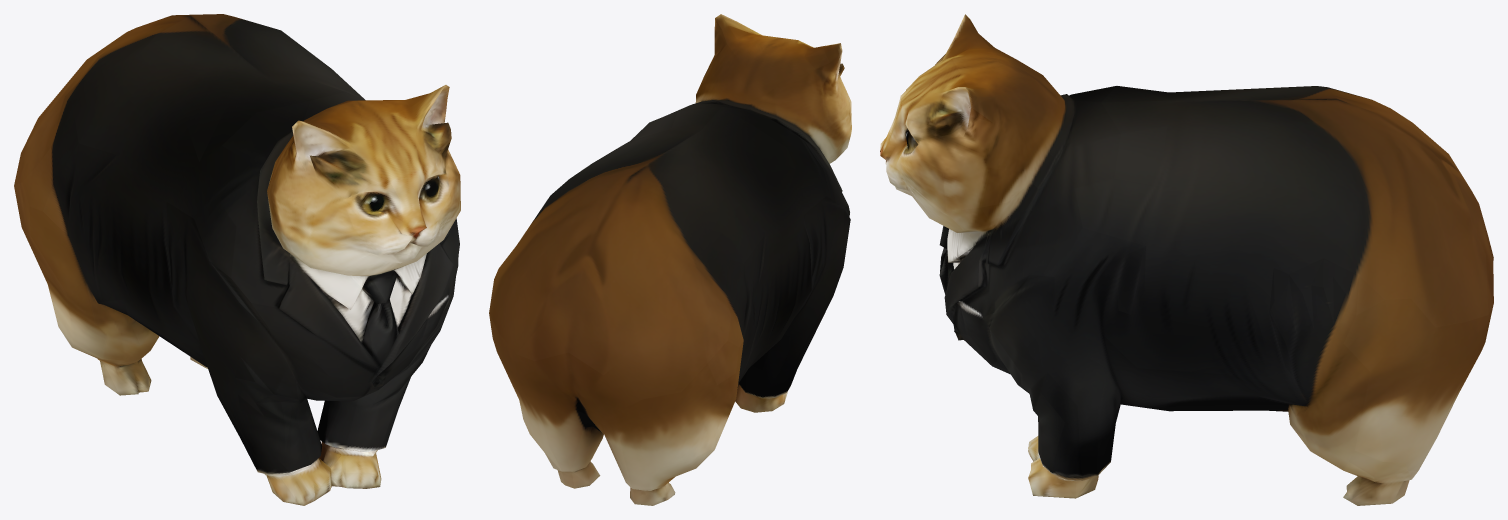
The model's file is base_basic_shaded.fbx.
The picture shows the model from 3 angles, left to right: view 1: azimuth 30°, elevation 25°; view 2: azimuth 150°, elevation 25°; view 3: azimuth 270°, elevation 25°; orthographic projection. The views are drawn at different scales.
Parts seen in each view (by area): view 1: model; view 2: model; view 3: model.
Boxes of the visible parts, x1,y1,x2,y2 form: model: (14, 14, 460, 505); model: (489, 14, 851, 505); model: (880, 14, 1493, 505).
Size of the model in its own units: 104 by 142 by 186.
